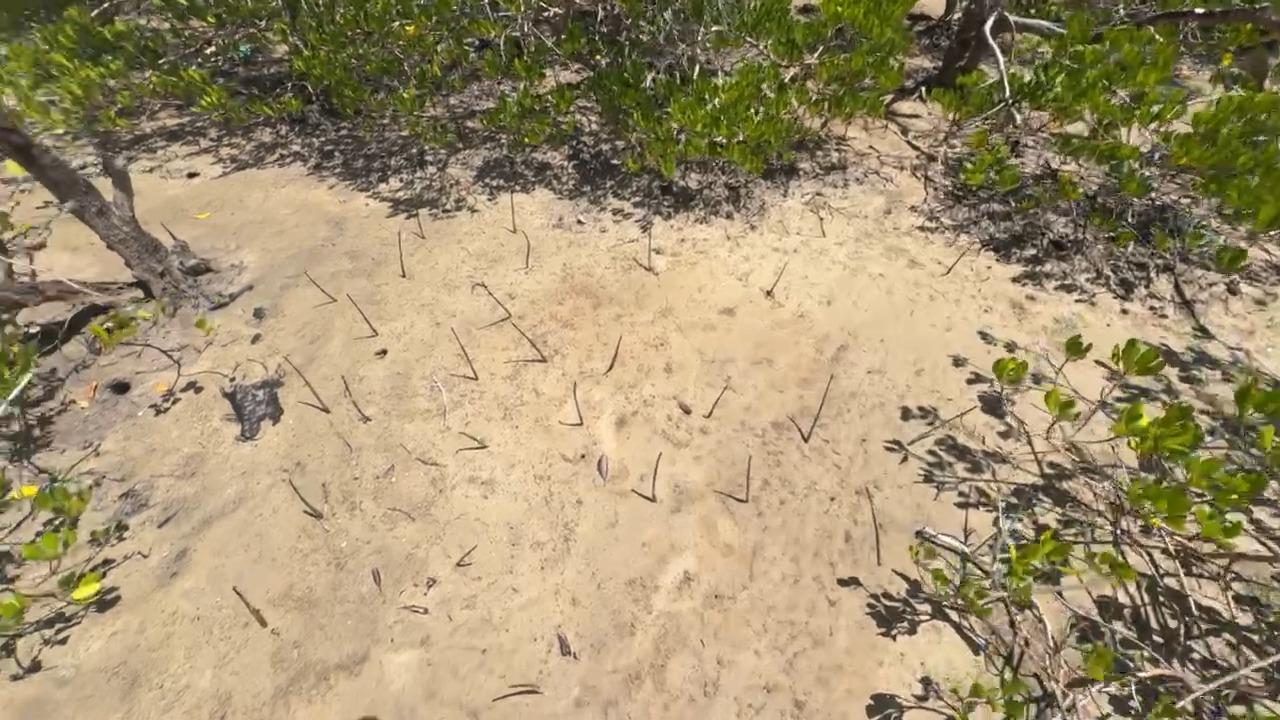Tree: (1070, 335, 1168, 436), (282, 355, 330, 413), (805, 373, 833, 444), (231, 585, 267, 629), (450, 327, 478, 380), (511, 321, 547, 362), (340, 374, 370, 422), (471, 281, 511, 317), (346, 293, 378, 336), (288, 479, 323, 518), (945, 241, 977, 276), (303, 271, 337, 301), (766, 262, 787, 296), (706, 385, 728, 417), (651, 451, 663, 503), (608, 335, 623, 371), (814, 200, 827, 238), (457, 432, 487, 448), (456, 544, 477, 566), (573, 380, 583, 424), (398, 228, 406, 277), (745, 455, 753, 502), (415, 207, 425, 238), (522, 230, 530, 268), (161, 222, 176, 241), (508, 683, 540, 691), (510, 191, 516, 233), (647, 230, 652, 270)
